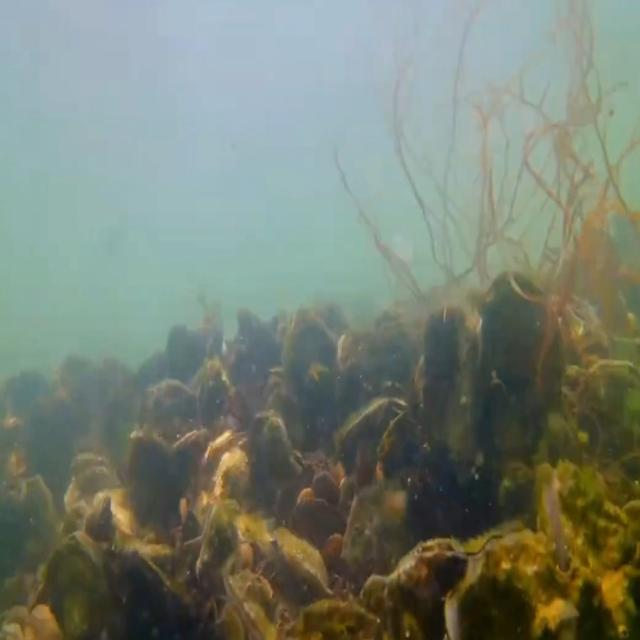Oyster-Closed: (361, 528, 506, 640), (196, 497, 239, 595), (222, 570, 278, 640), (84, 492, 113, 541)
Oyster-Indeterminate: (445, 529, 618, 640), (480, 272, 565, 466), (417, 304, 476, 464), (108, 546, 194, 640), (341, 483, 410, 584), (44, 532, 107, 640), (126, 427, 182, 538), (13, 473, 56, 584), (276, 526, 330, 592)
Oyster-Open: (533, 456, 639, 640), (334, 396, 414, 484), (200, 429, 252, 495)
